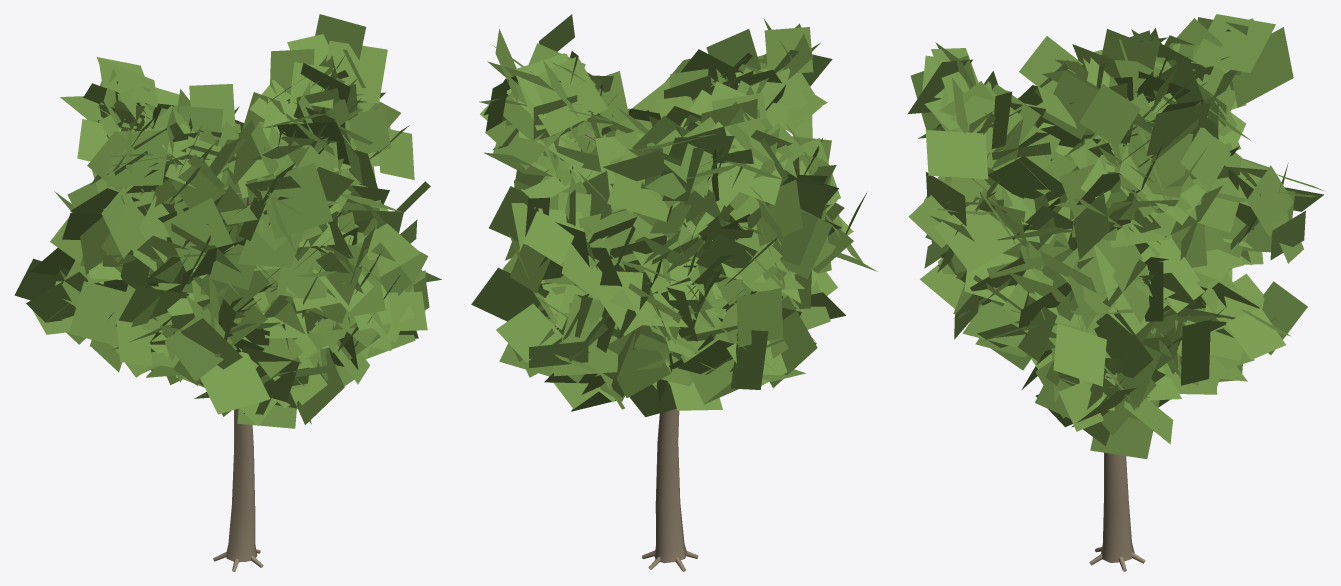
Rendered from oak-5-lod0.glb.
3 renders of one model, left to right at view 1: azimuth 30°, elevation 25°; view 2: azimuth 150°, elevation 25°; view 3: azimuth 270°, elevation 25°, orthographic. The views are drawn at different scales.
Parts seen in each view (by area): view 1: oak-5-lod0-foliage, oak-5-lod0-bark; view 2: oak-5-lod0-foliage, oak-5-lod0-bark; view 3: oak-5-lod0-foliage, oak-5-lod0-bark.
Part boxes in pixels (bbox=[...]): oak-5-lod0-foliage: bbox=[14, 14, 441, 428]; oak-5-lod0-bark: bbox=[166, 143, 388, 571]; oak-5-lod0-foliage: bbox=[471, 14, 877, 416]; oak-5-lod0-bark: bbox=[584, 134, 698, 571]; oak-5-lod0-foliage: bbox=[907, 14, 1323, 458]; oak-5-lod0-bark: bbox=[977, 82, 1206, 571].
Size of the model in its own units: 9.79 by 13.15 by 9.44.
